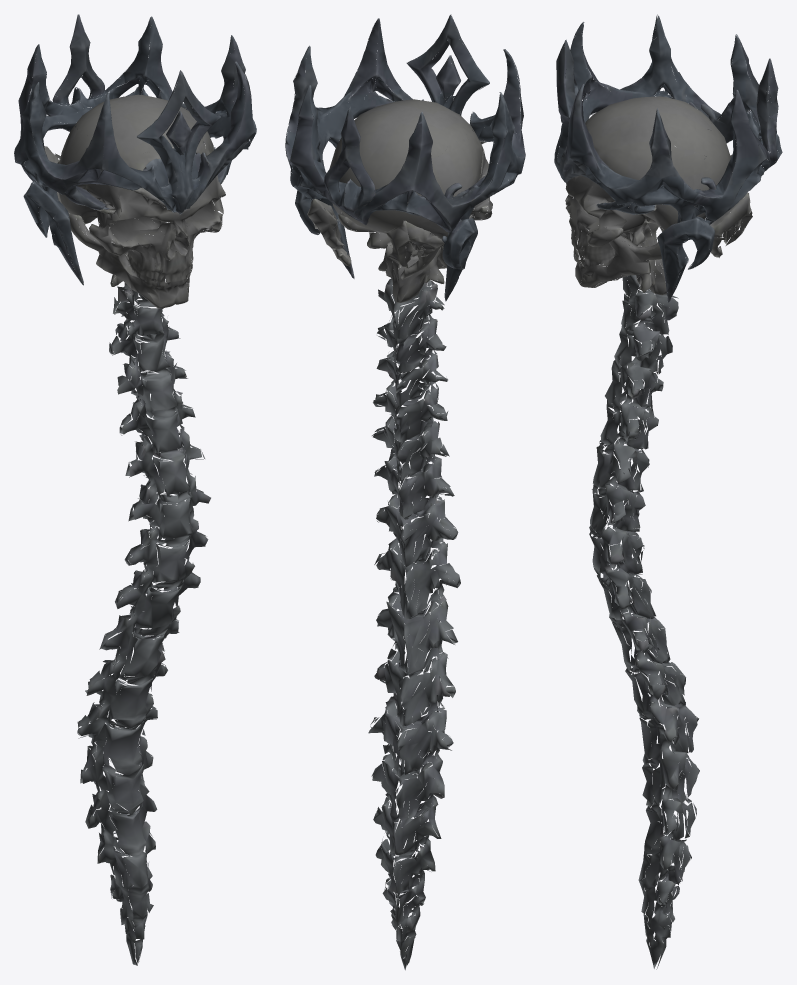
Rendered from blackcrown-skull-mobile.glb.
3 views of the same model, side by side, from view 1: azimuth 30°, elevation 25°; view 2: azimuth 150°, elevation 25°; view 3: azimuth 270°, elevation 25° (orthographic).
Visible parts, largest first — view 1: SPINE, CROWN, SKULL_FACE, SKULL_CRANIUM; view 2: SPINE, CROWN, SKULL_CRANIUM, SKULL_FACE, SKULL_REAR_LEFT, SKULL_REAR_RIGHT; view 3: SPINE, CROWN, SKULL_CRANIUM, SKULL_FACE, SKULL_REAR_RIGHT.
Part boxes in pixels (<box>): SPINE: <box>77,270,210,965</box>; CROWN: <box>14,14,256,285</box>; SKULL_FACE: <box>68,147,225,308</box>; SKULL_CRANIUM: <box>59,94,213,224</box>; SPINE: <box>368,269,460,970</box>; CROWN: <box>285,14,525,301</box>; SKULL_CRANIUM: <box>329,99,483,239</box>; SKULL_FACE: <box>338,140,492,302</box>; SKULL_REAR_LEFT: <box>386,220,444,279</box>; SKULL_REAR_RIGHT: <box>307,199,351,266</box>; SPINE: <box>589,275,699,969</box>; CROWN: <box>554,14,782,302</box>; SKULL_CRANIUM: <box>583,96,730,231</box>; SKULL_FACE: <box>565,148,678,295</box>; SKULL_REAR_RIGHT: <box>703,192,752,257</box>.
Bounding box in the file's own units: 0.0293 × 0.1199 × 0.0266.
3 materials, 3 textured.
